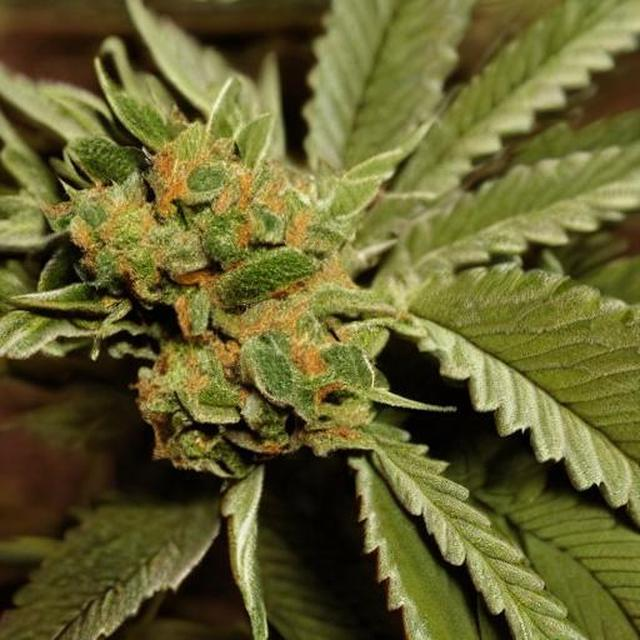Marijuana Joint: (118, 42, 473, 600)
